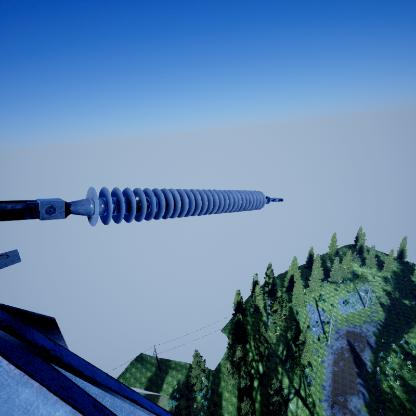insulator: (85, 186, 266, 230)
